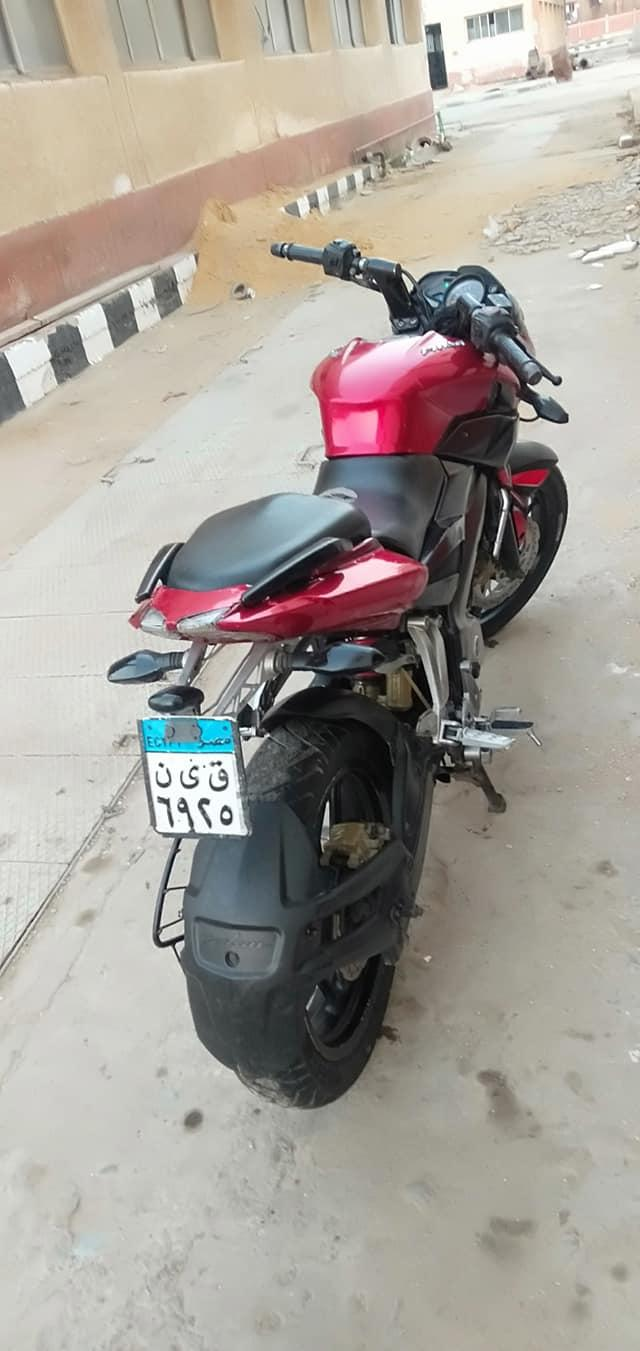License Plate: (143, 705, 249, 842)
